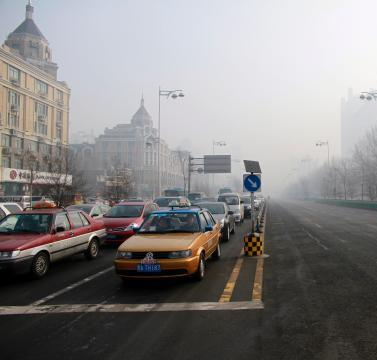car: (114, 201, 222, 284), (1, 200, 108, 278), (101, 200, 160, 236), (191, 201, 236, 242), (62, 203, 112, 234), (150, 196, 191, 225), (216, 192, 245, 227), (236, 195, 255, 220)
